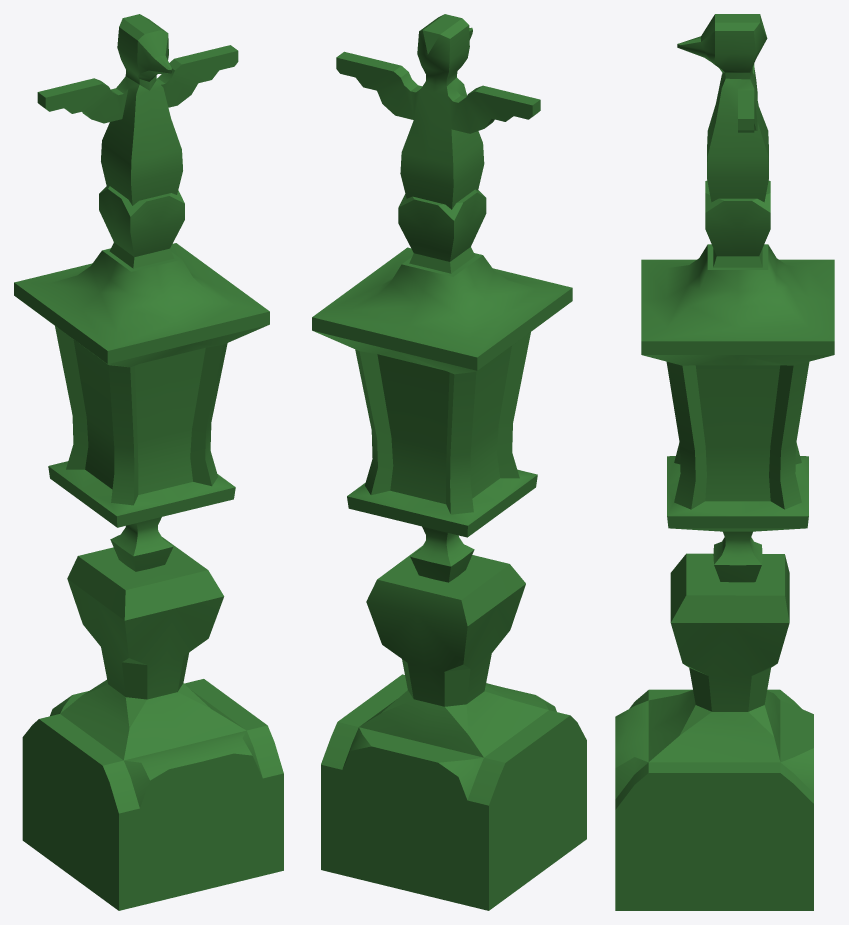
Rendered from OBJ_Streetlight_03.FBX.
3 views of the same model, side by side, from view 1: azimuth 30°, elevation 25°; view 2: azimuth 150°, elevation 25°; view 3: azimuth 270°, elevation 25° (orthographic). The views are drawn at different scales.
Visible parts, largest first — view 1: OBJ_Streetlight_03; view 2: OBJ_Streetlight_03; view 3: OBJ_Streetlight_03.
Part boxes in pixels (left/top/right/bottom): OBJ_Streetlight_03: left=14, top=14, right=283, bottom=910; OBJ_Streetlight_03: left=312, top=14, right=586, bottom=910; OBJ_Streetlight_03: left=615, top=14, right=834, bottom=910.
Bounding box in the file's own units: 4.08 × 16.66 × 3.89.
